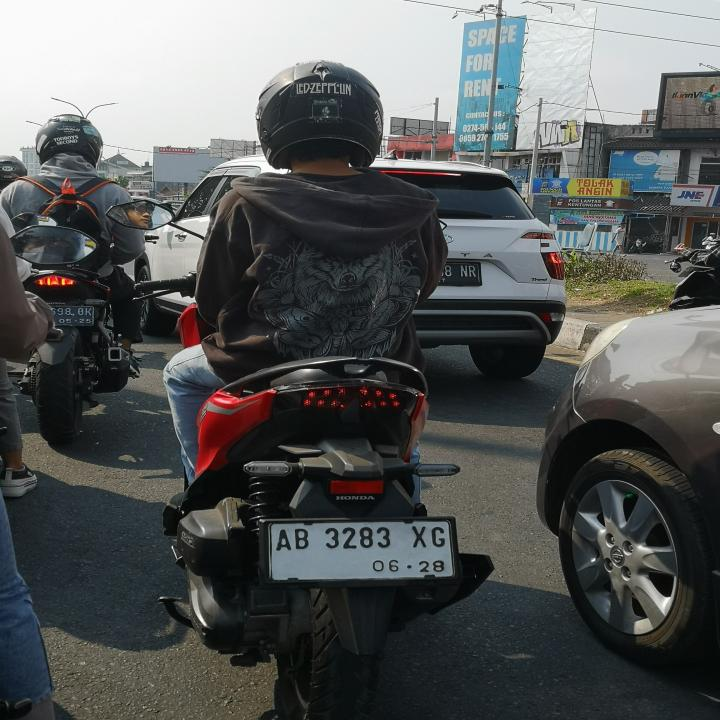plate: (263, 512, 463, 586)
